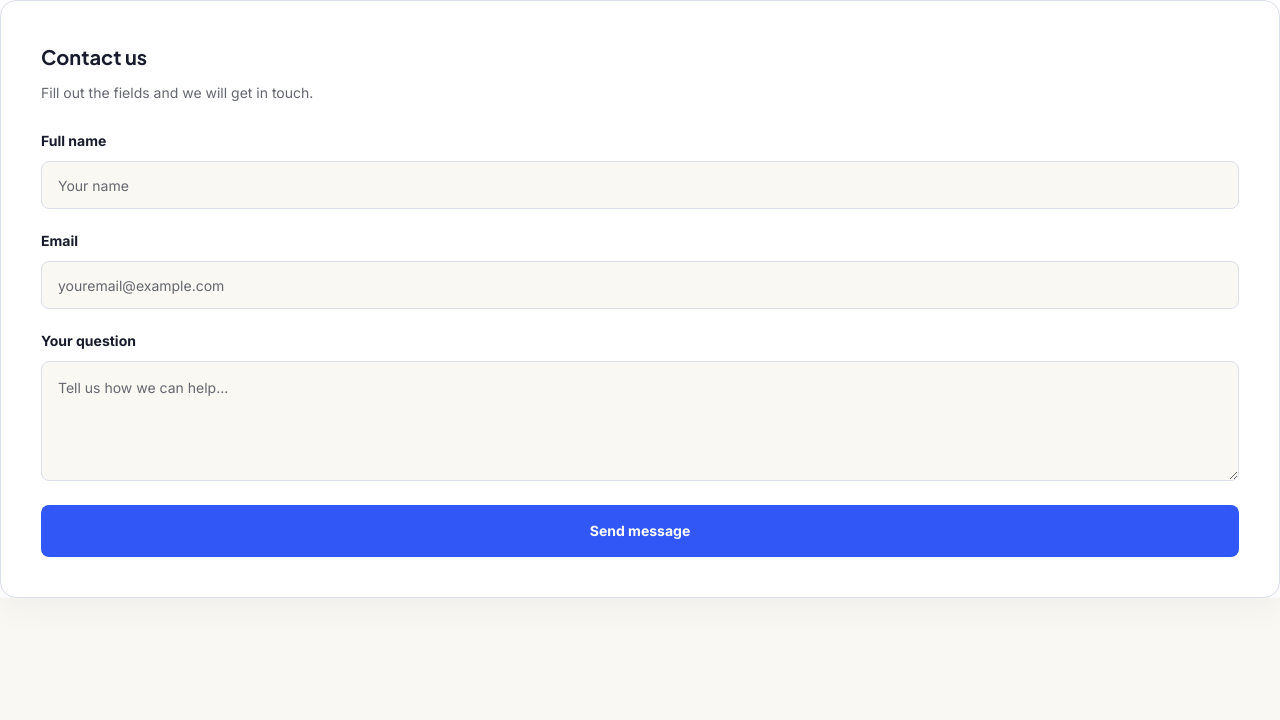
Test: ContactForm › confirms a valid submission as a demo and clears the form
This screenshot has width=1280, height=720.
Type "Ana Souza" into the field labelled "Full name" at (640, 185), box [41,161,1239,209]
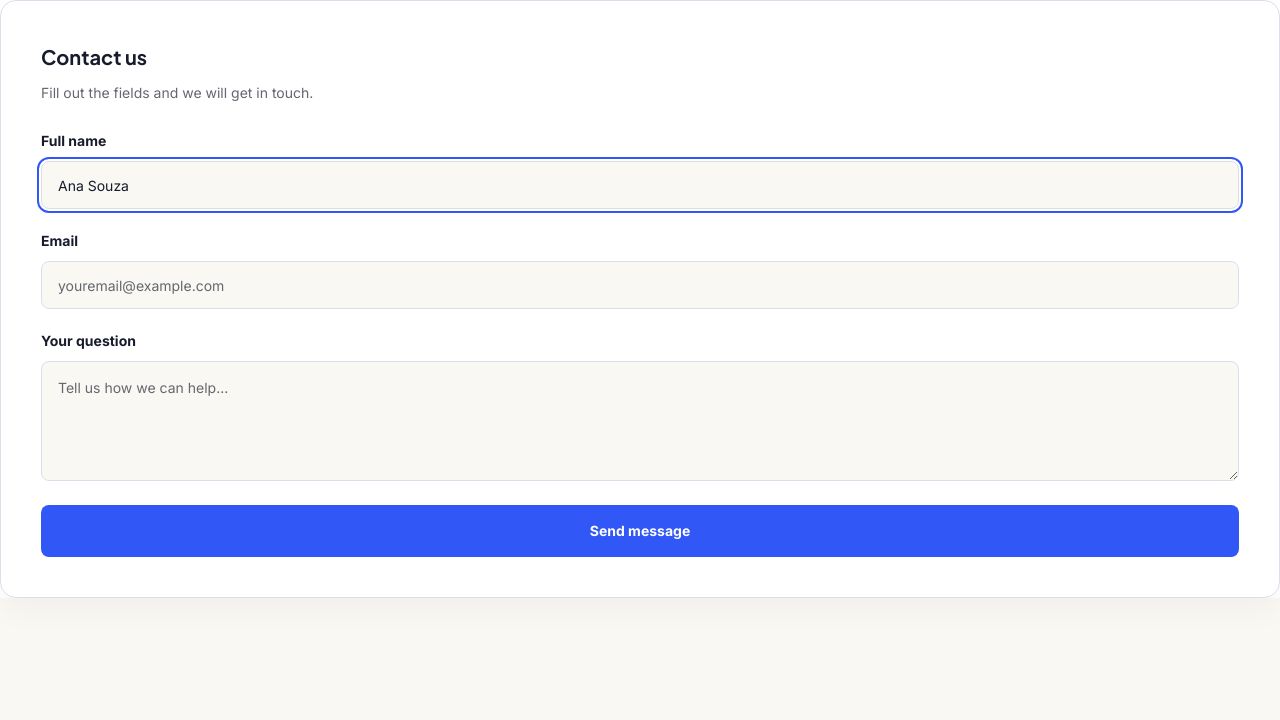
Type "ana@example.com" into the field labelled "Email" at (640, 285), box [41,261,1239,309]
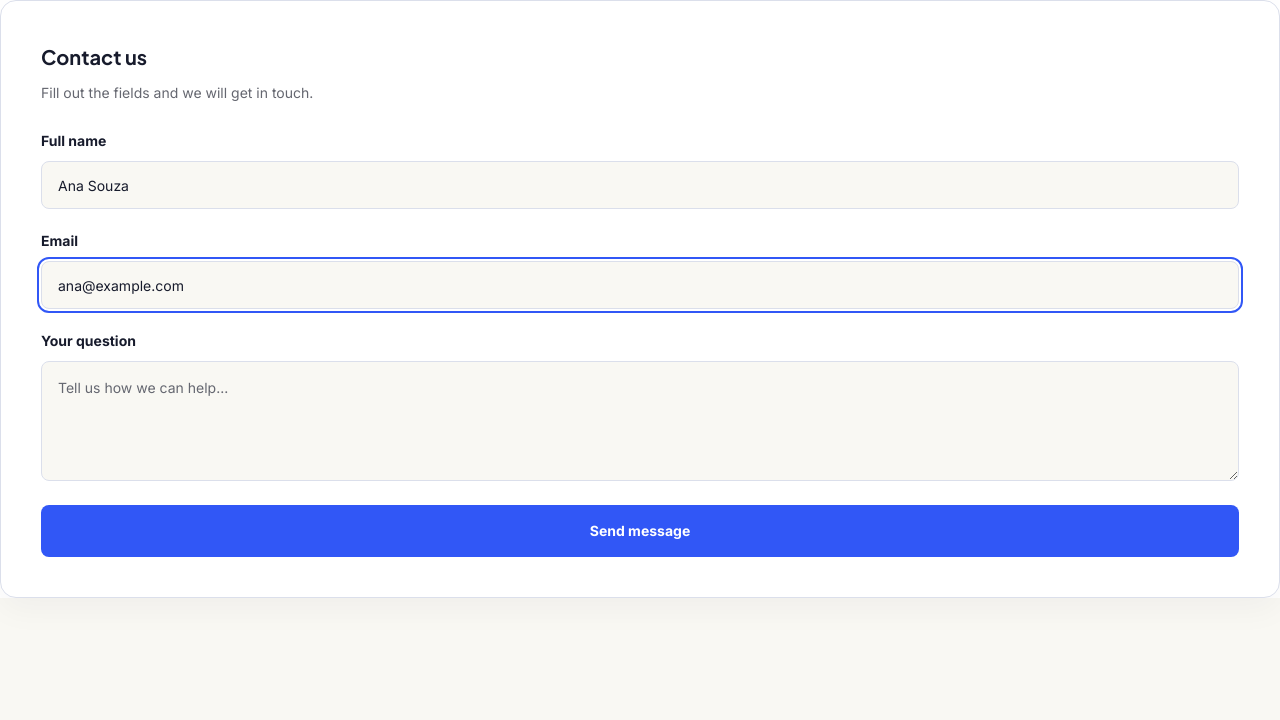
Type "Which course should I start with?" into the text box labelled "Your question" at (640, 421), box [41,361,1239,481]
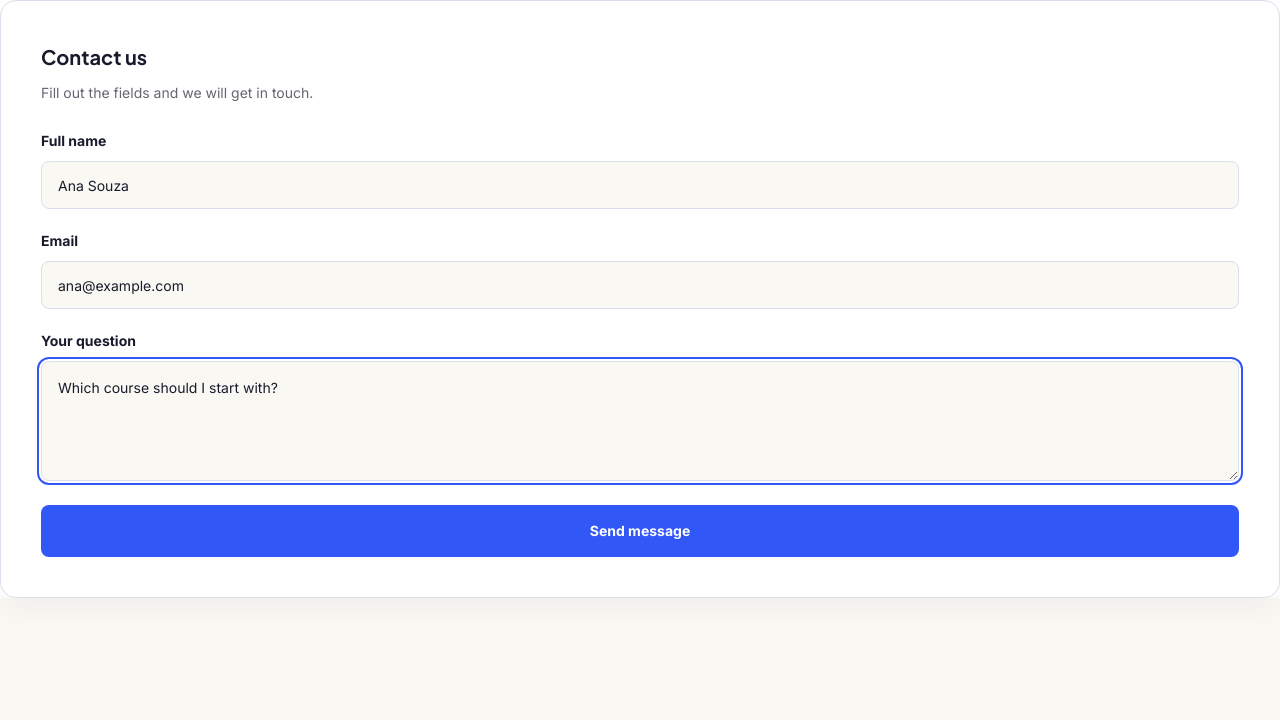
Click the button "Send message" at (640, 531), box [41,505,1239,557]
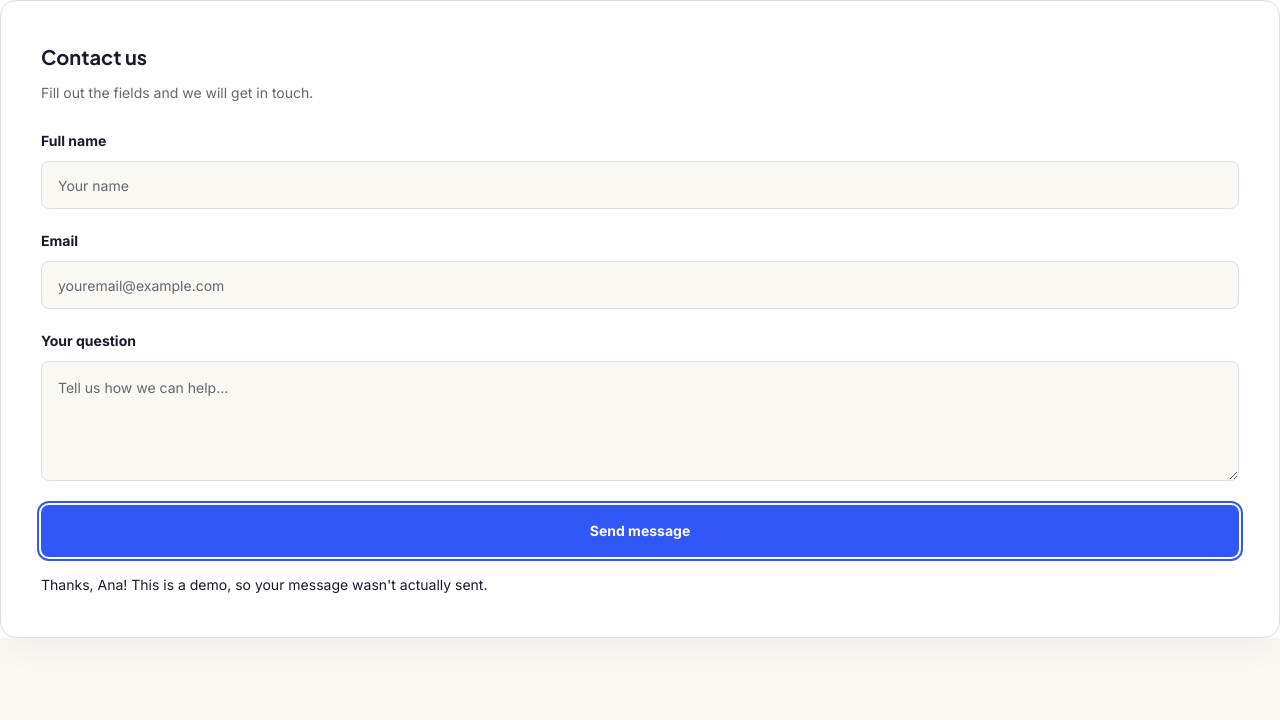
Now the message reads "Thanks, Ana! This is a demo, so your message wasn't actually sent.", box [41,576,488,593]
Now the field labelled "Full name" is empty, box [41,161,1239,209]
Now the field labelled "Email" is empty, box [41,261,1239,309]
